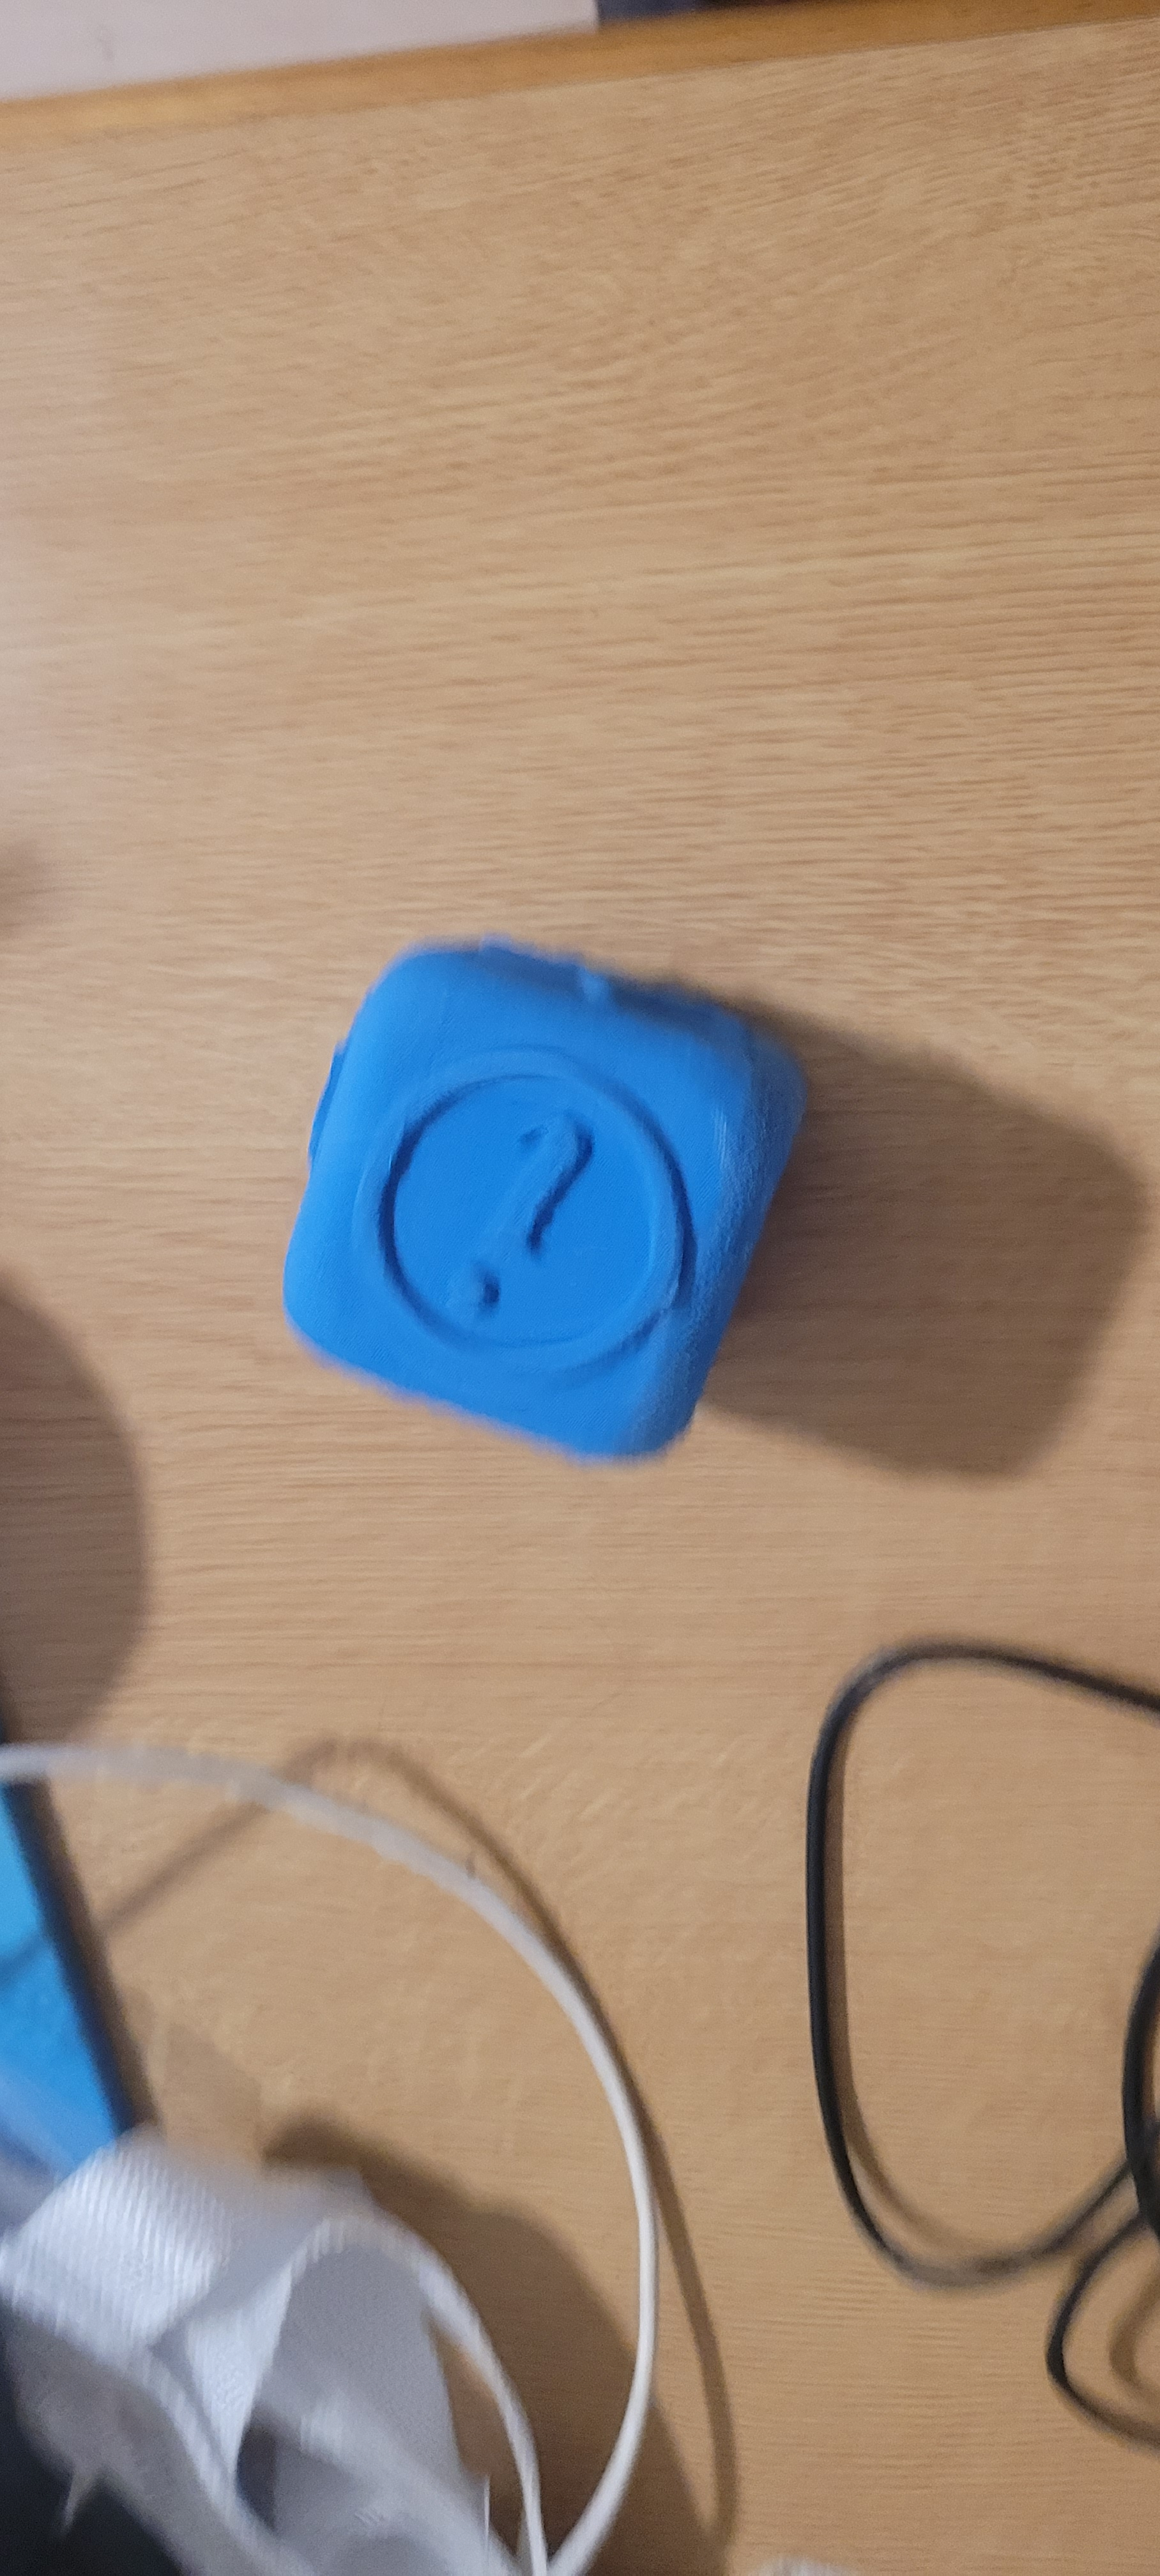Info: (366, 997, 711, 1395)
